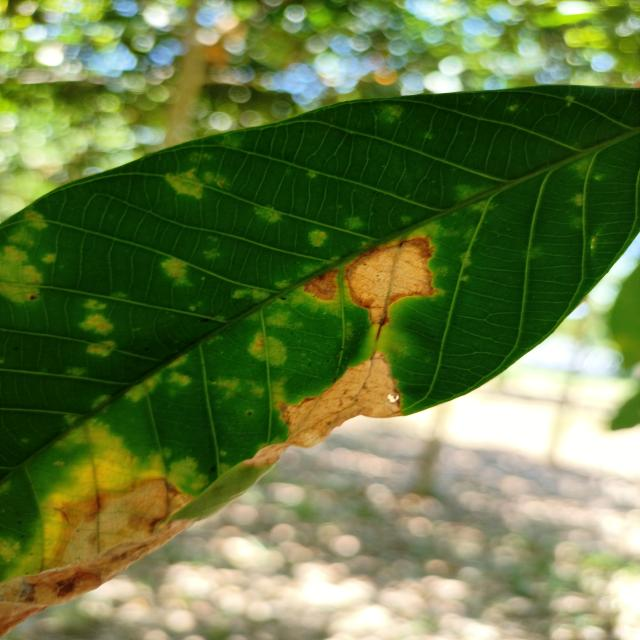Leaf-Blight: (0, 475, 197, 638), (242, 350, 403, 468), (343, 235, 434, 325), (303, 268, 337, 300)
